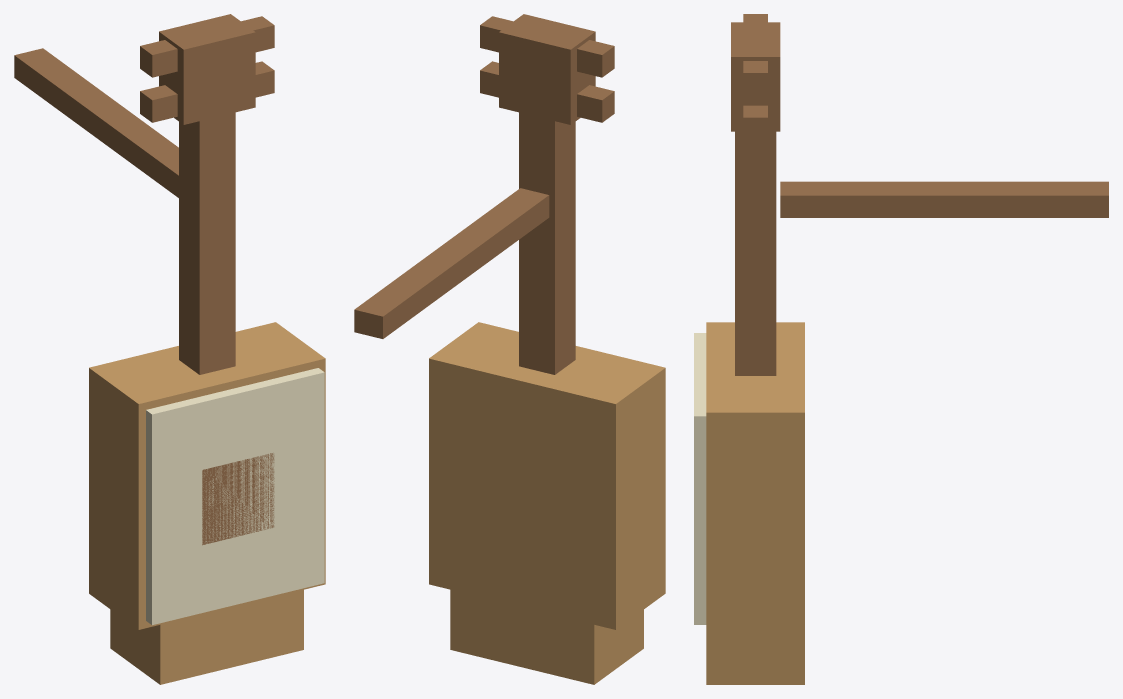
File: alaude_costas.glb
The picture shows the model from 3 angles, left to right: view 1: azimuth 30°, elevation 25°; view 2: azimuth 150°, elevation 25°; view 3: azimuth 270°, elevation 25°; orthographic projection.
Visible parts, largest first — view 1: alaude_costas; view 2: alaude_costas; view 3: alaude_costas.
Part boxes in pixels (x1,y1,x2,y2): alaude_costas: [14, 14, 325, 684]; alaude_costas: [354, 14, 665, 684]; alaude_costas: [694, 14, 1108, 684].
Bounding box in the file's own units: 0.26 × 0.82 × 0.505.
